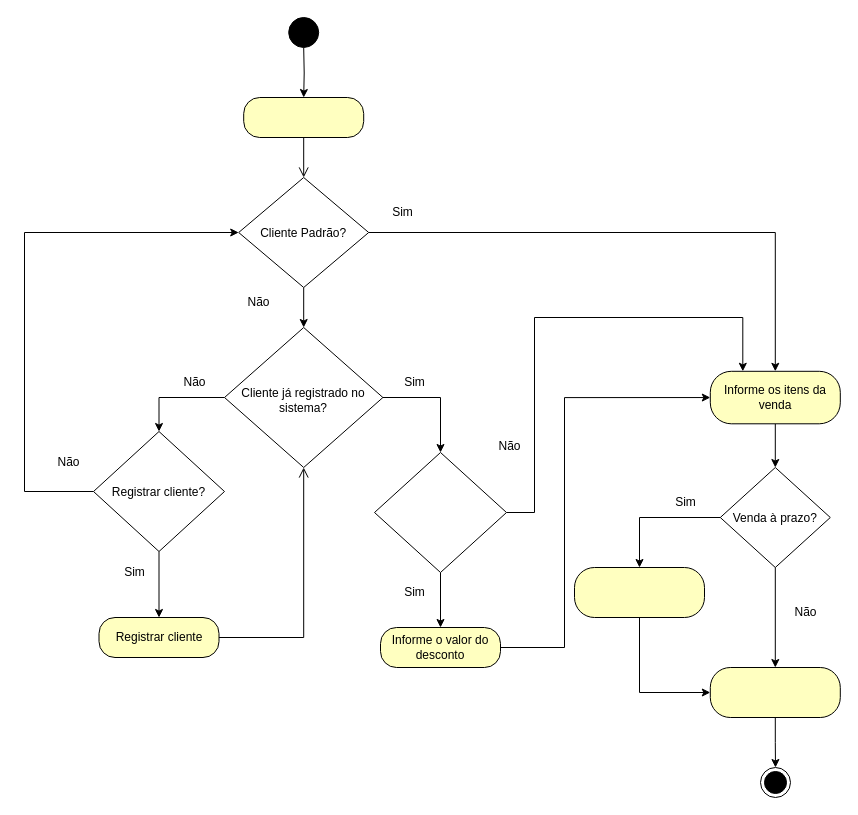
The diagram is 858 pixels wide and 815 high, and some of its shapes have lost their labels. The shapes that lost their labels are listed below. From the top down, each one's box as (x1, y1, x2, y2) in pixels, then its label:
(243, 96, 364, 138): Registrar venda
(374, 452, 506, 572): Aplicar desconto?
(574, 566, 704, 618): Informe o número de parcelas
(709, 666, 840, 718): Finalizar venda
